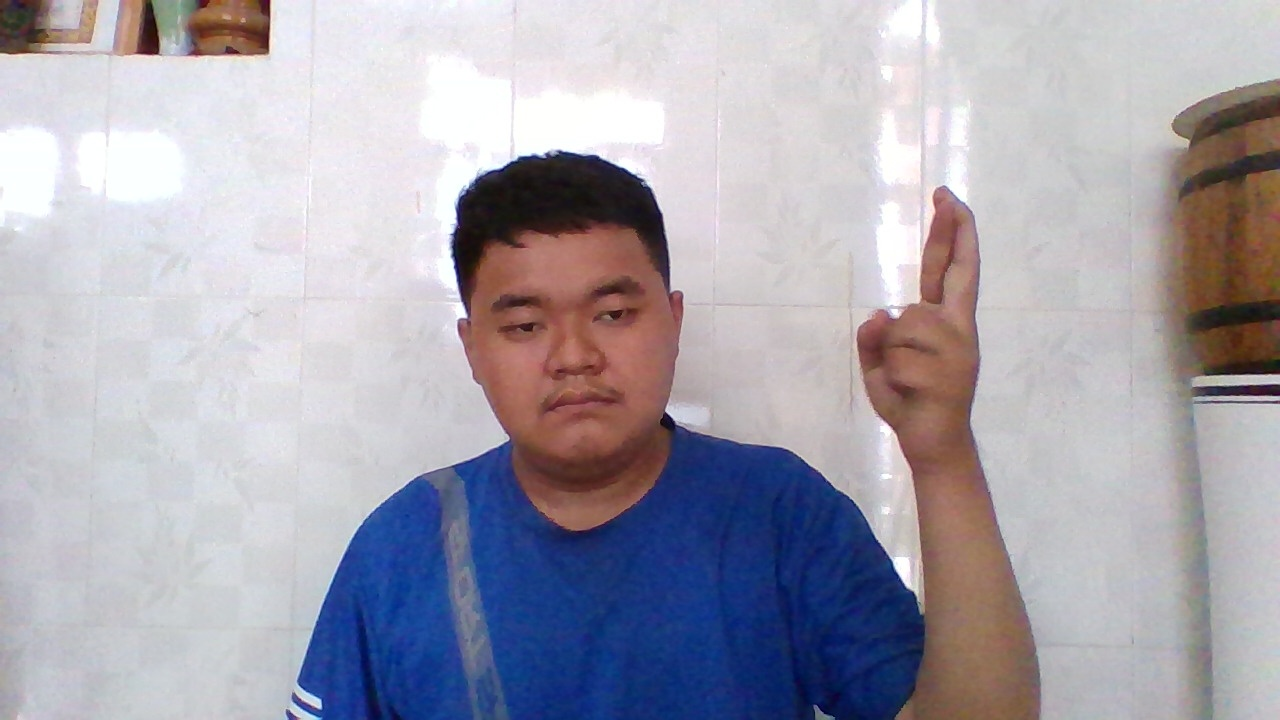R: (848, 187, 981, 467)
